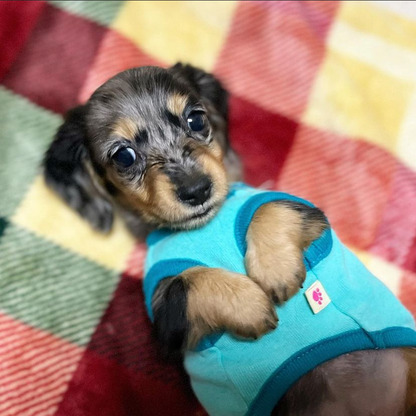dachshund: (56, 76, 364, 362)
